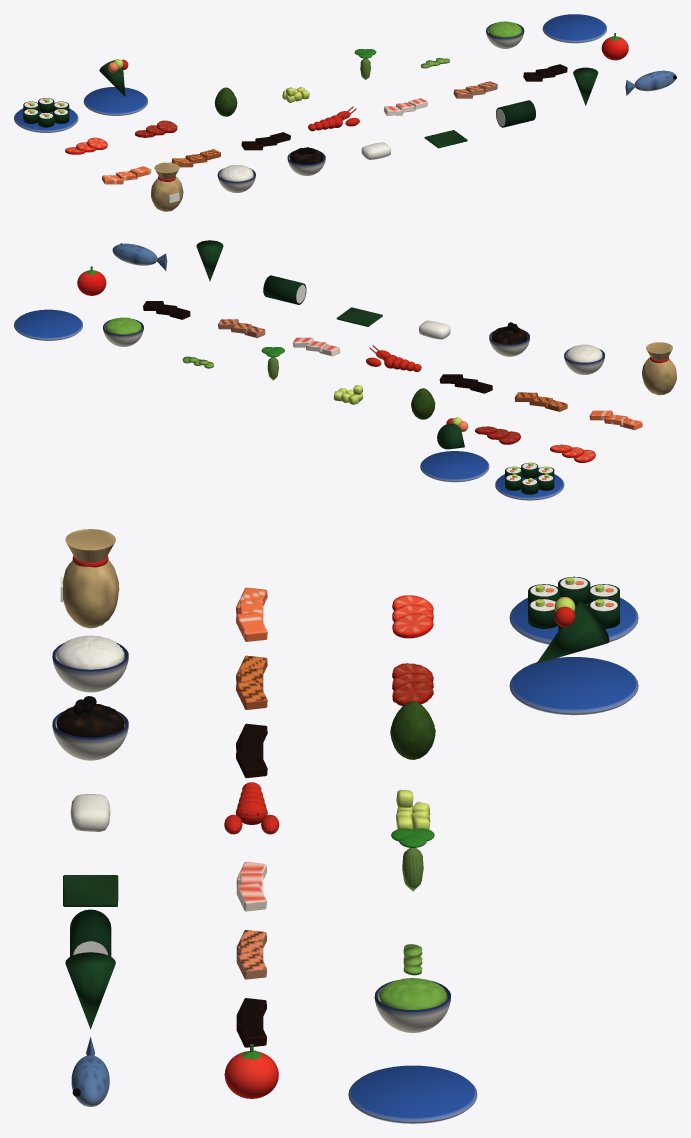
File: food.glb
3 views of the same model, one above another, from view 1: azimuth 30°, elevation 25°; view 2: azimuth 150°, elevation 25°; view 3: azimuth 270°, elevation 25° (orthographic). The views are drawn at different scales.
Visible parts, largest first — view 1: plate, plate.003, sack, nori, plate.002, body, cone, avocado, tomato, sheet, rice, rice.003 (+7 smaller); view 2: plate.003, plate, sack, nori, plate.002, body, cone, cone.001, avocado, tomato, rice, sheet (+6 smaller); view 3: plate, plate.003, sack, cone, avocado, cone.001, tomato, rice, sheet, rice.003, rice.001, plate.002 (+7 smaller).
Part boxes in pixels (x1,y1,x2,y2): plate: (542,14,606,43); plate.003: (83,87,147,115); sack: (151,177,183,211); nori: (496,100,535,127); plate.002: (14,108,78,132); body: (634,70,676,91); cone: (573,67,598,105); avocado: (214,87,237,116); tomato: (601,37,628,60); sheet: (424,130,467,148); rice: (220,164,253,181); rice.003: (488,21,521,37); plate.003: (420,451,489,482); plate: (14,309,82,340); sack: (642,357,676,395); nori: (263,275,306,304); plate.002: (495,474,564,500); body: (112,243,157,265); cone: (196,240,223,281); cone.001: (437,423,464,449); avocado: (411,388,435,419); tomato: (77,270,106,295); rice: (566,344,602,362); sheet: (336,307,382,326); plate: (348,1065,477,1123); plate.003: (509,657,638,715); sack: (62,560,119,628); cone: (65,952,115,1029); avocado: (390,701,435,759); cone.001: (536,601,609,663); tomato: (224,1051,278,1098); rice: (56,635,124,669); sheet: (63,875,118,906); rice.003: (379,978,446,1009); rice.001: (56,704,124,737); plate.002: (509,597,638,644).
Bounding box in the file's own units: 5.46 × 0.4566 × 2.55.
